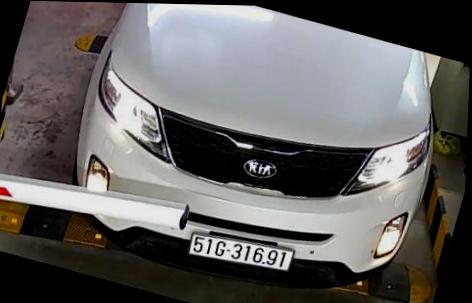License_Plate: (183, 225, 305, 278)
